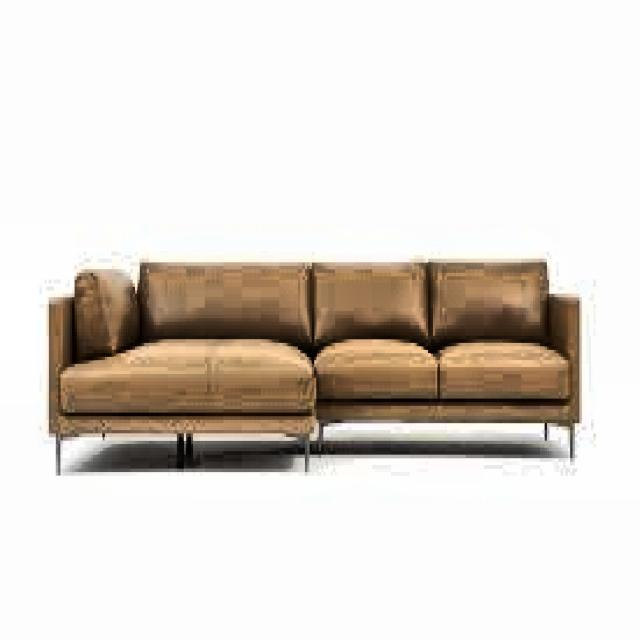sofa: (42, 259, 586, 472)
